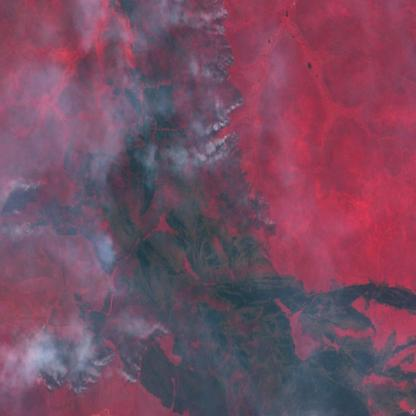fire: (210, 0, 279, 241), (28, 312, 172, 402), (0, 178, 49, 249)
